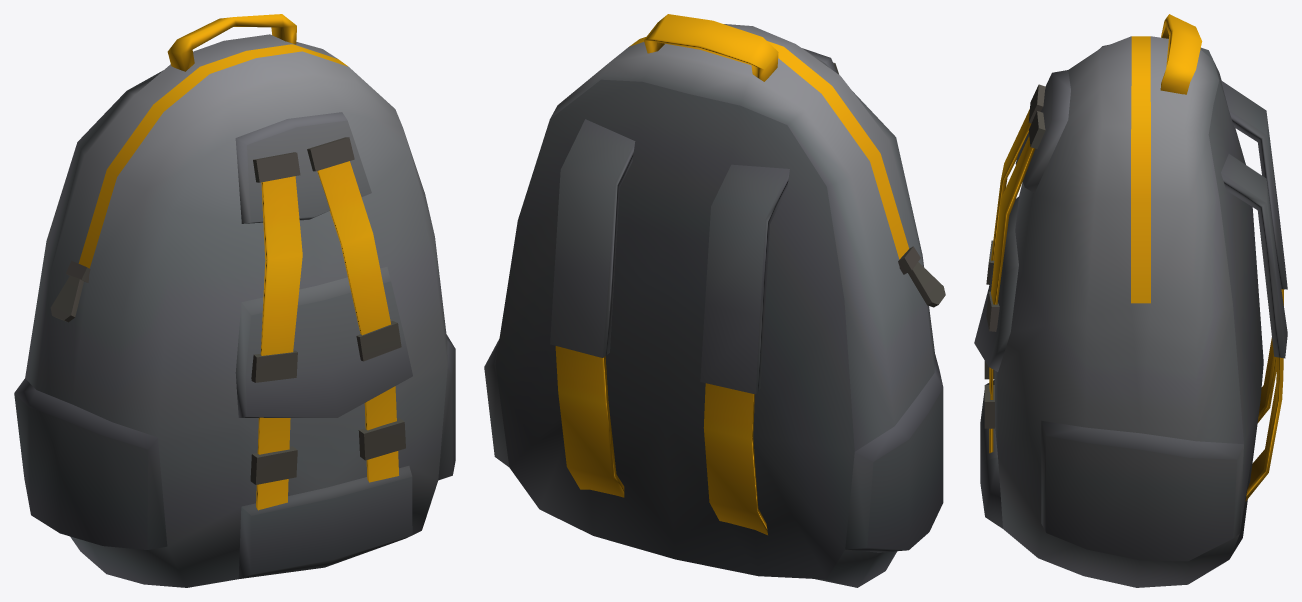
File: backpack.fbx
3 renders of one model, left to right at view 1: azimuth 30°, elevation 25°; view 2: azimuth 150°, elevation 25°; view 3: azimuth 270°, elevation 25°, orthographic. The views are drawn at different scales.
Parts seen in each view (by area): view 1: backpack; view 2: backpack; view 3: backpack.
Part boxes in pixels (bbox=[...]): backpack: bbox=[14, 14, 455, 587]; backpack: bbox=[484, 14, 945, 587]; backpack: bbox=[974, 14, 1287, 587].
Bounding box in the file's own units: 40.21 × 49.8 × 28.53.
